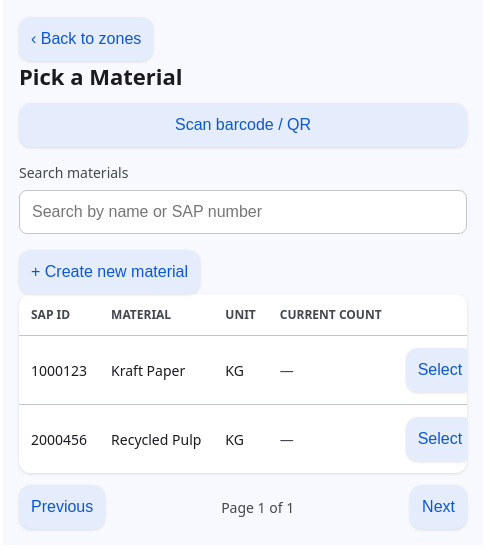
Test: MaterialPickerPage › filters the table by search text matching name or SAP number
Expected: the table is shown, [19, 294, 467, 473]
Type "kraft" into the field labelled "Search materials" at {"x": 243, "y": 212}, box [19, 190, 467, 234]
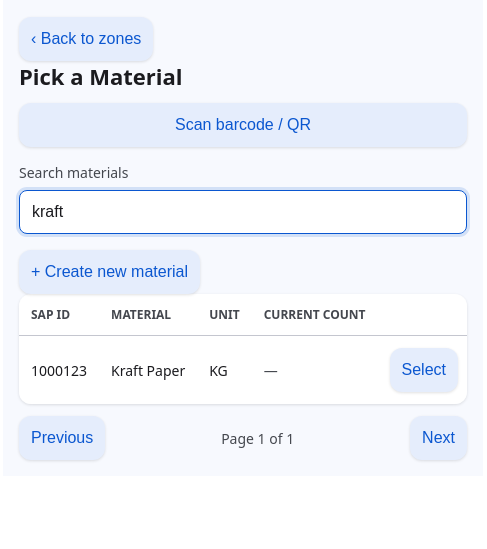
Expected: the text "Kraft Paper" is shown, [99, 336, 197, 404]
Now the text "Recycled Pulp" is gone
